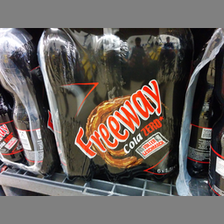soda: (39, 29, 195, 182), (1, 28, 61, 177)
